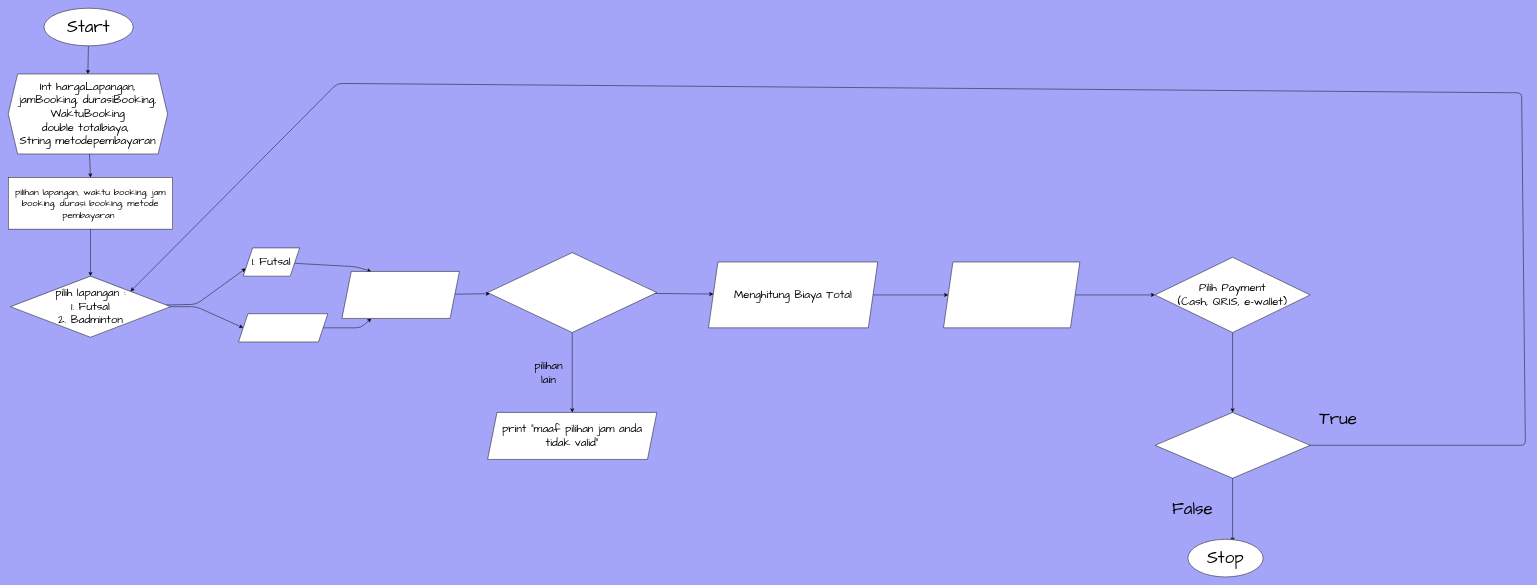
Some shapes in this 1537 by 585 pixel diagram are drawn without their labels. The shapes that lost their labels are listed below. From the top down, each one's centre as x and y in pixels, then its label:
At (400,294): "Pilih waktu booking".
At (572,292): "jambooking < 1 OR > 23".
At (1011,295): "Menampilan Informasi Booking dan total biaya".
At (283,327): "2. Badminton".
At (1232,445): "Apakah lanjut pemesanan?".
